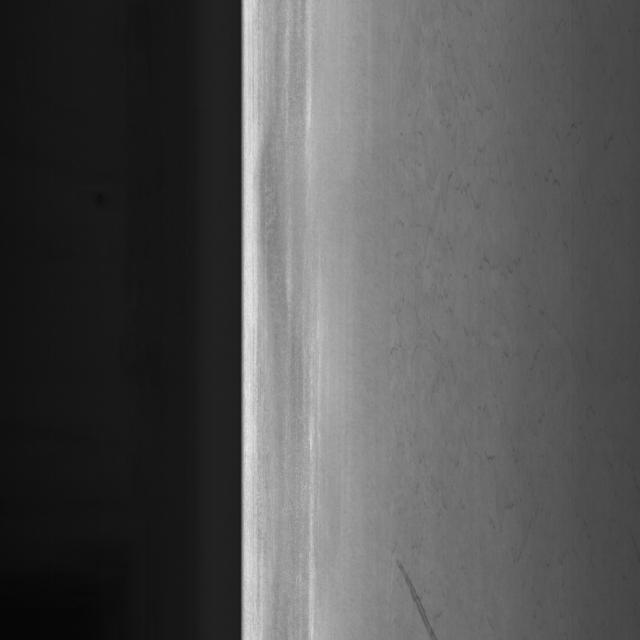inclusion: (371, 35, 581, 508)
water_spot: (388, 548, 454, 640)
